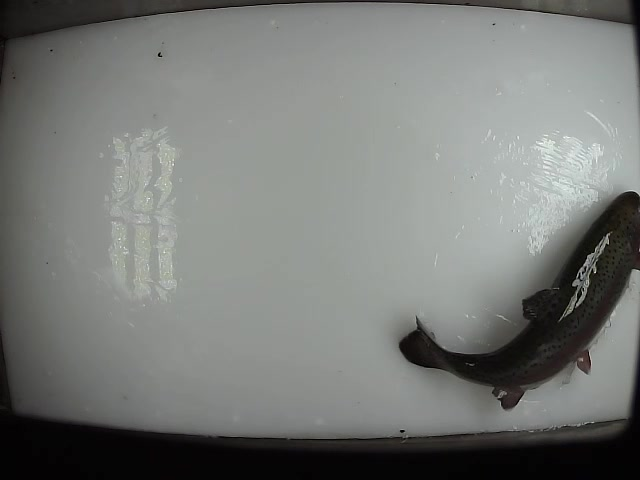fish: (396, 189, 640, 414)
